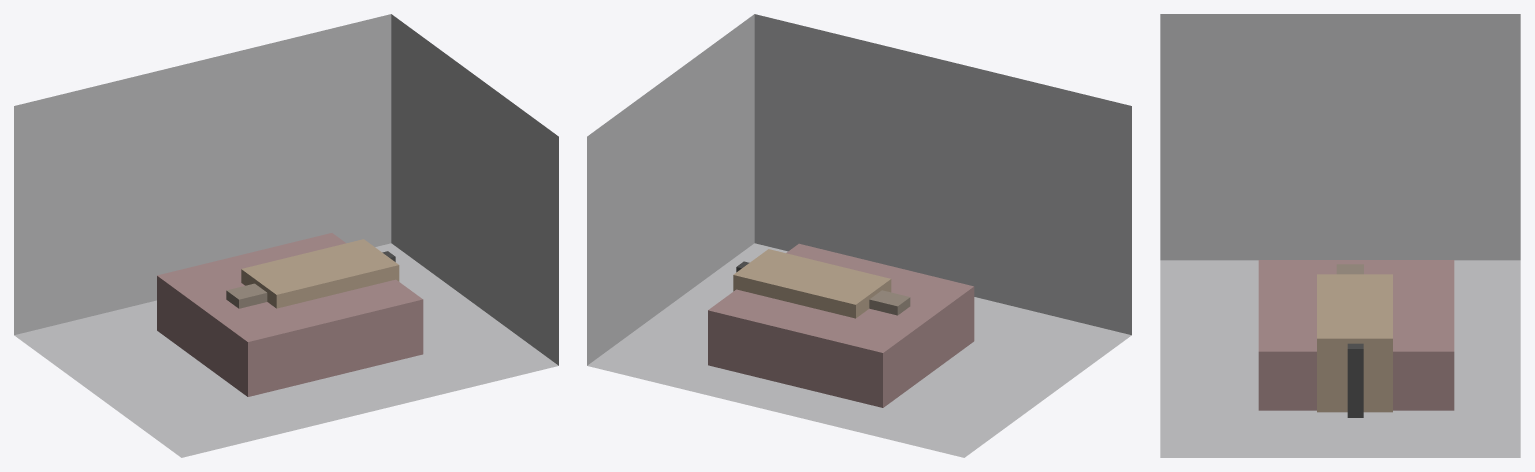
File: optimised_layout.glb
3 views of the same model, side by side, from view 1: azimuth 30°, elevation 25°; view 2: azimuth 150°, elevation 25°; view 3: azimuth 270°, elevation 25° (orthographic). The views are drawn at different scales.
Parts seen in each view (by area): view 1: room, bed, desk, suitcase; view 2: room, bed, desk, suitcase; view 3: room, bed, desk, tv.
Part boxes in pixels (x1=…): room: x1=14, y1=14, x2=558, y2=457; bed: x1=157, y1=233, x2=423, y2=396; desk: x1=241, y1=239, x2=399, y2=308; suitcase: x1=226, y1=283, x2=267, y2=308; room: x1=587, y1=14, x2=1131, y2=457; bed: x1=708, y1=243, x2=974, y2=407; desk: x1=733, y1=249, x2=891, y2=318; suitcase: x1=869, y1=290, x2=910, y2=315; room: x1=1160, y1=14, x2=1520, y2=457; bed: x1=1258, y1=260, x2=1454, y2=410; desk: x1=1317, y1=274, x2=1392, y2=412; tv: x1=1347, y1=343, x2=1363, y2=417.
Bounding box in the file's own units: 4.31 × 2.5 × 3.31.
